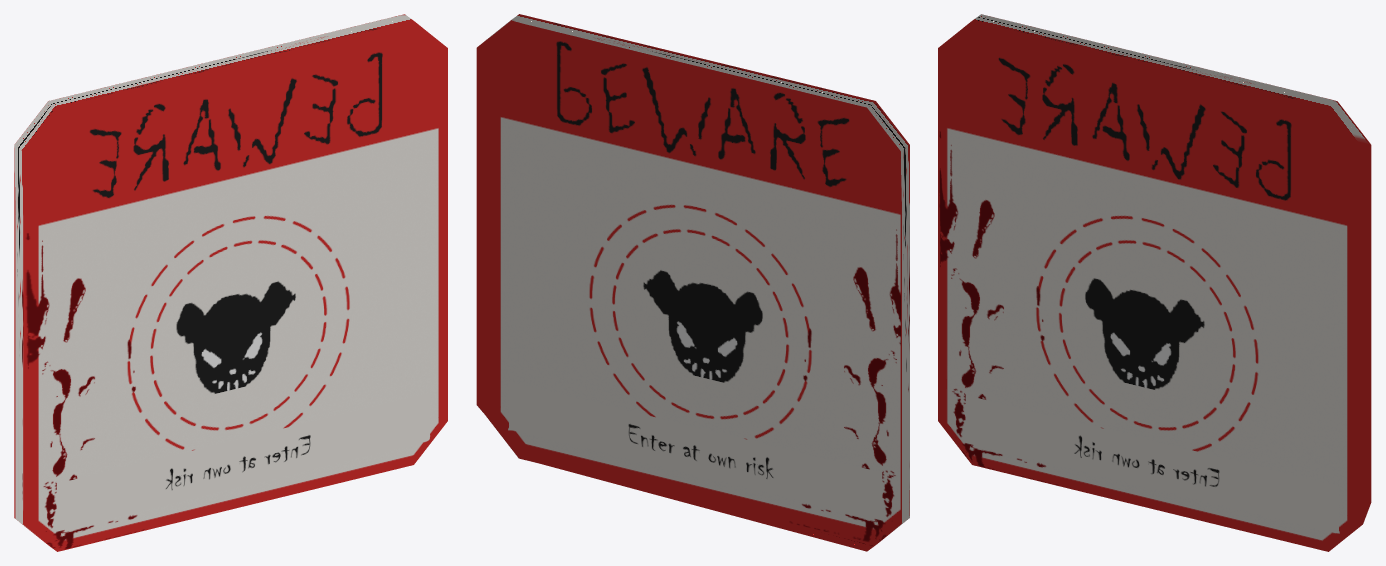
The model's file is Caution_Frame.obj.
3 renders of one model, left to right at view 1: azimuth 30°, elevation 25°; view 2: azimuth 150°, elevation 25°; view 3: azimuth 330°, elevation 25°, orthographic.
Parts seen in each view (by area): view 1: Caution_Frame; view 2: Caution_Frame; view 3: Caution_Frame.
Part boxes in pixels (x1,y1,x2,y2): Caution_Frame: [14, 14, 447, 551]; Caution_Frame: [476, 14, 909, 551]; Caution_Frame: [938, 14, 1371, 551].
Bounding box in the file's own units: 1 × 1 × 0.05.
Materials: 1 (1 with a texture image).
